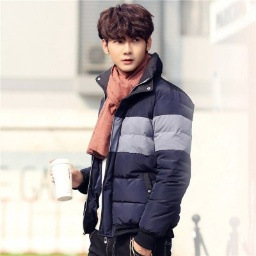face: (98, 2, 154, 72)
